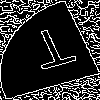T: (25, 25, 83, 79)
